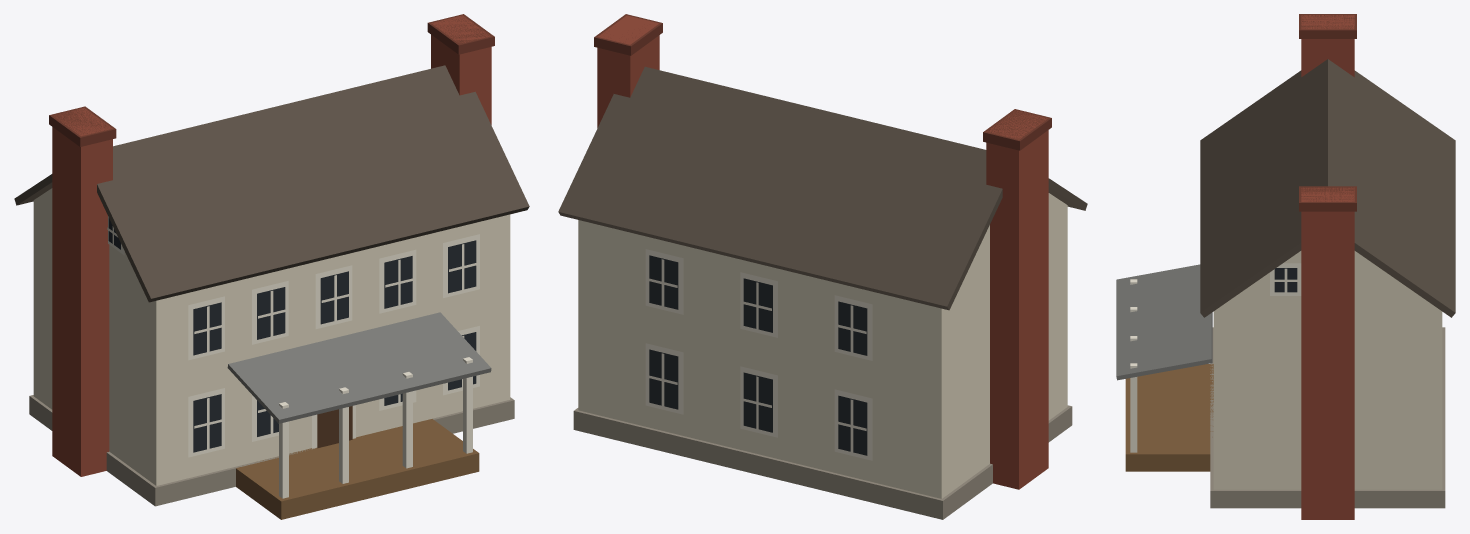
Rendered from farmhouse.glb.
3 views of the same model, side by side, from view 1: azimuth 30°, elevation 25°; view 2: azimuth 150°, elevation 25°; view 3: azimuth 270°, elevation 25° (orthographic). The views are drawn at different scales.
Parts seen in each view (by area): view 1: farmhouse; view 2: farmhouse; view 3: farmhouse.
Part boxes in pixels (x1,y1,x2,y2): farmhouse: (14, 14, 529, 519); farmhouse: (558, 14, 1087, 519); farmhouse: (1116, 14, 1455, 519).
Bounding box in the file's own units: 11.72 × 9.2 × 8.9.
